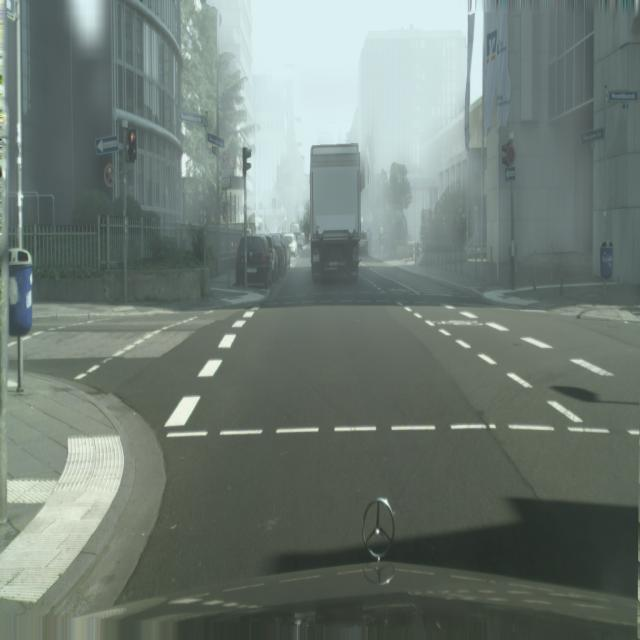rider: (309, 144, 360, 284)
truck: (236, 233, 273, 288), (269, 234, 288, 279), (283, 233, 297, 257)
